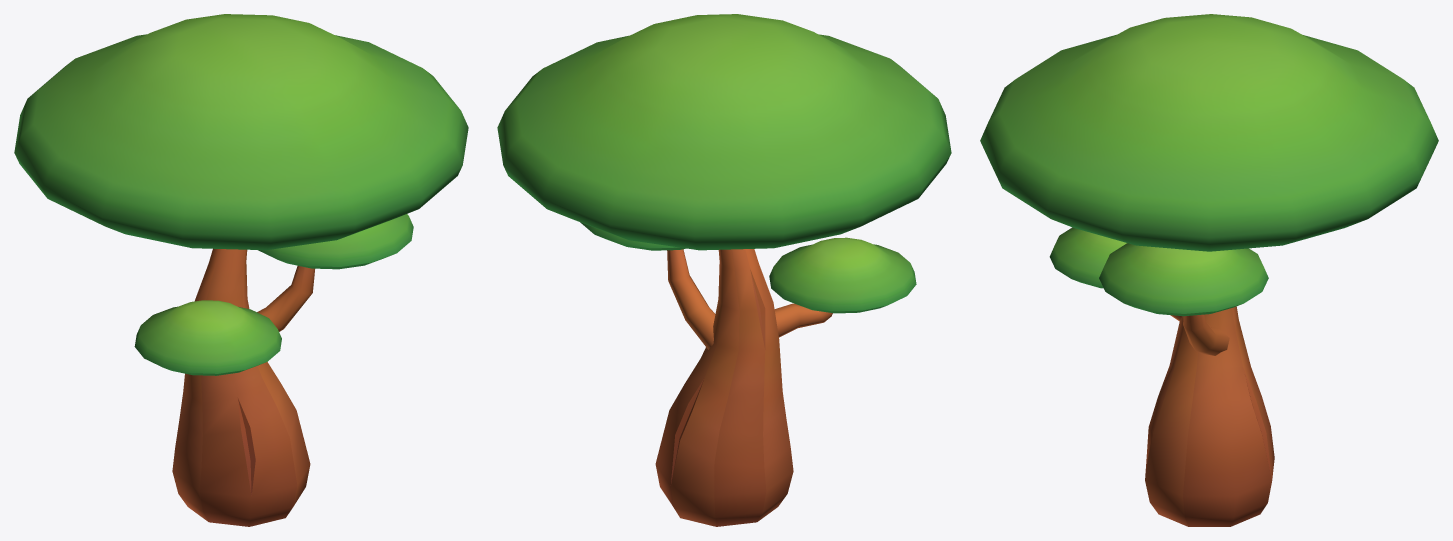
Rendered from Tree_3_A_Color1.glb.
3 renders of one model, left to right at view 1: azimuth 30°, elevation 25°; view 2: azimuth 150°, elevation 25°; view 3: azimuth 270°, elevation 25°, orthographic.
Parts seen in each view (by area): view 1: Tree_3_A_Color1; view 2: Tree_3_A_Color1; view 3: Tree_3_A_Color1.
Part boxes in pixels (x1=…): Tree_3_A_Color1: x1=14, y1=14, x2=468, y2=526; Tree_3_A_Color1: x1=497, y1=14, x2=951, y2=526; Tree_3_A_Color1: x1=980, y1=14, x2=1438, y2=526.
Bounding box in the file's own units: 3.09 × 3.51 × 3.09.
1 material, 1 textured.
